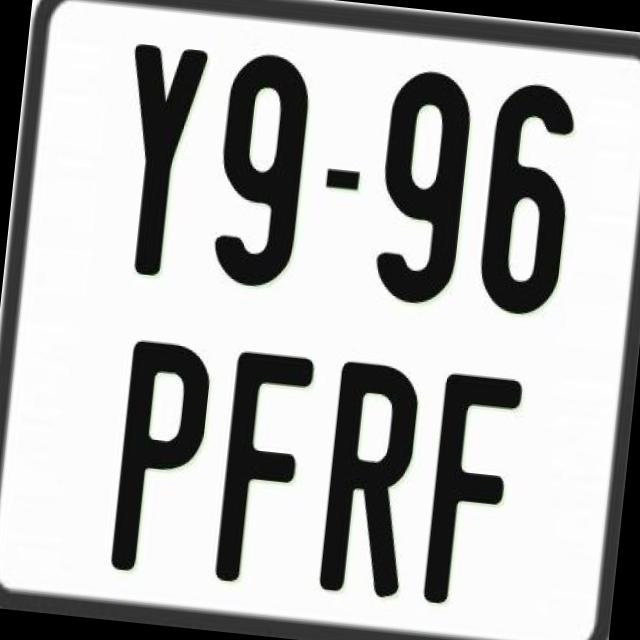6: (475, 76, 585, 316)
9: (208, 47, 320, 290), (370, 67, 478, 316)
F: (210, 347, 318, 592), (421, 372, 527, 616)
P: (110, 338, 220, 580)
Y: (108, 40, 204, 282)
